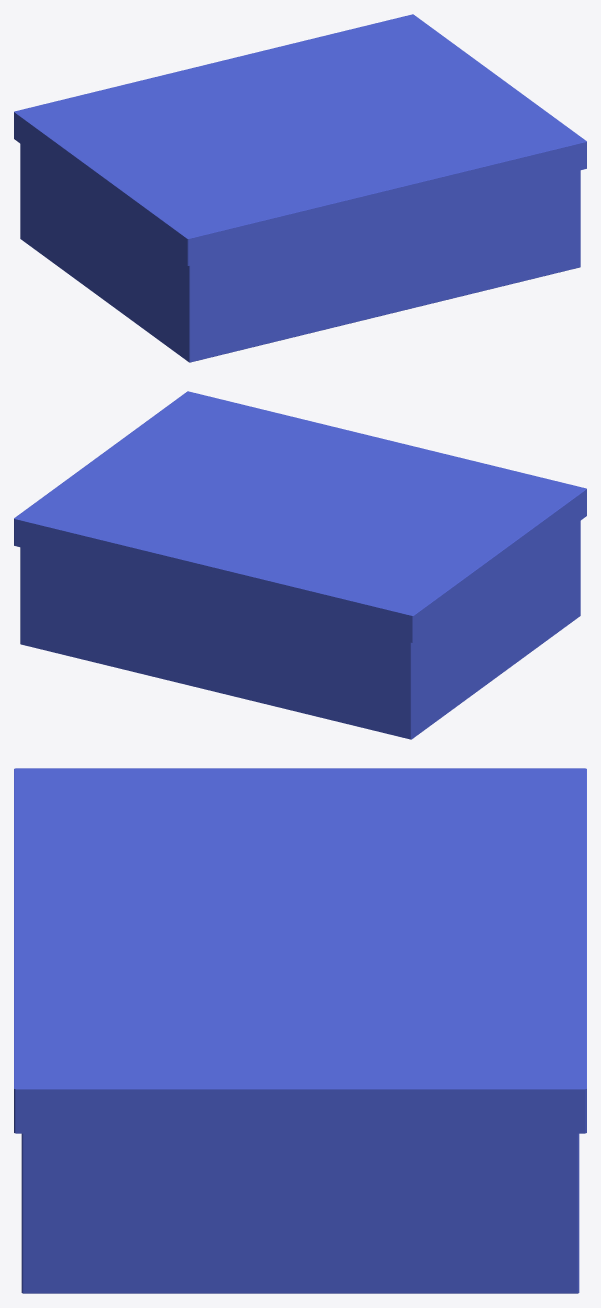
File: mod.glb
3 renders of one model, top to bottom at view 1: azimuth 30°, elevation 25°; view 2: azimuth 150°, elevation 25°; view 3: azimuth 270°, elevation 25°, orthographic. The views are drawn at different scales.
Visible parts, largest first — view 1: box tutup, box; view 2: box tutup, box; view 3: box tutup, box.
Boxes of the visible parts, x1,y1,x2,y2 form: box tutup: [14, 14, 586, 265]; box: [20, 144, 580, 362]; box tutup: [14, 391, 586, 642]; box: [20, 521, 580, 739]; box tutup: [14, 768, 586, 1133]; box: [21, 1133, 579, 1293].
Size of the model in its own units: 0.4082 by 0.1235 by 0.3082.
